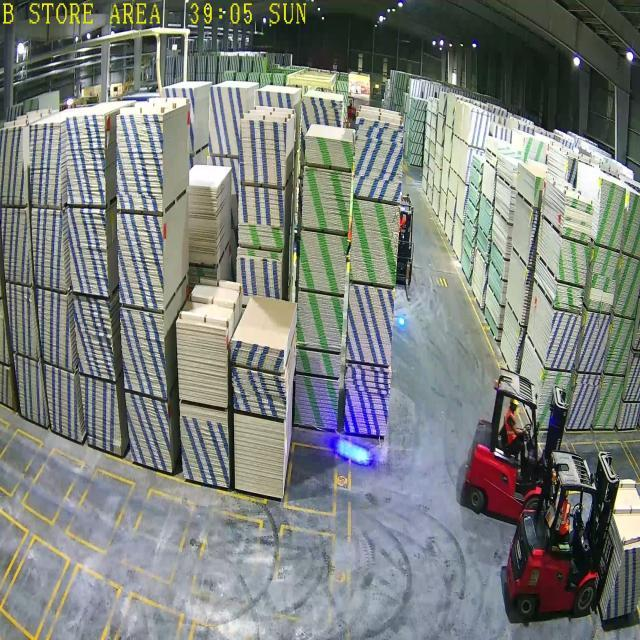material_stack: (350, 198, 400, 287), (354, 117, 404, 203), (234, 413, 284, 499), (346, 285, 394, 365), (343, 364, 391, 436), (302, 168, 351, 231), (299, 229, 347, 293), (297, 293, 343, 351), (233, 366, 285, 417), (295, 375, 339, 429), (534, 370, 571, 428), (596, 179, 626, 249), (588, 245, 619, 312), (546, 310, 581, 368), (580, 313, 610, 373), (568, 374, 600, 429), (231, 339, 284, 372), (605, 317, 634, 374), (594, 375, 624, 429), (615, 254, 640, 317), (556, 239, 589, 286), (562, 195, 593, 243), (306, 136, 352, 168), (295, 350, 340, 376), (624, 192, 640, 256), (554, 283, 584, 313)
